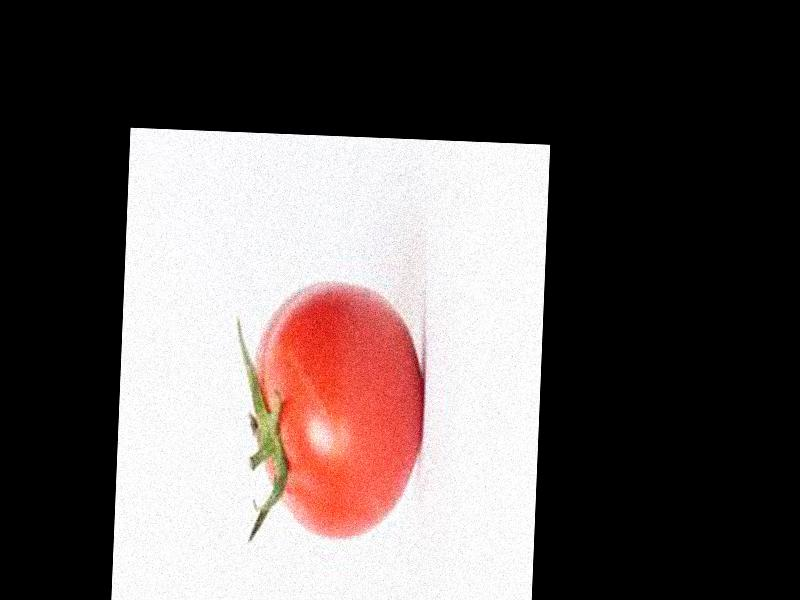Tomato: (250, 275, 429, 541)
